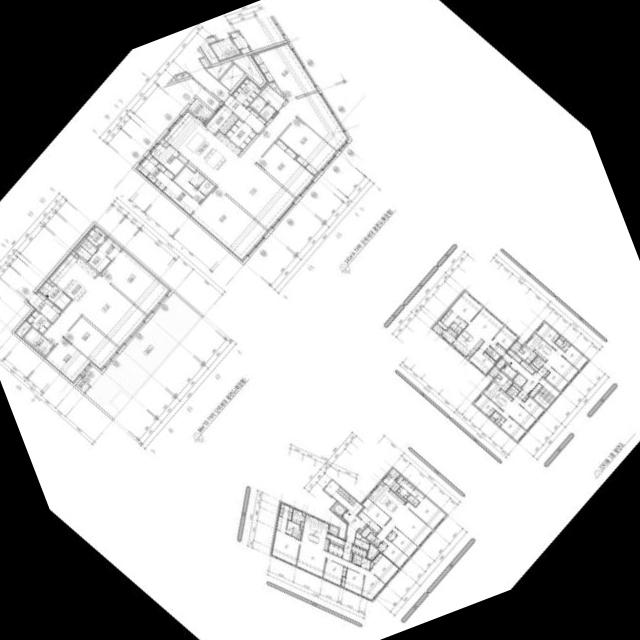background: (0, 0, 640, 640)
space_balconi: (388, 467, 400, 479), (328, 524, 338, 536)
space_bedroom: (190, 186, 268, 261), (101, 248, 171, 315), (250, 41, 317, 99), (257, 138, 315, 198), (279, 117, 337, 176), (64, 316, 120, 370), (45, 337, 92, 383), (404, 496, 446, 529), (271, 529, 300, 565), (450, 291, 482, 323), (370, 551, 399, 584), (361, 497, 390, 527), (391, 526, 418, 557), (382, 537, 409, 567), (469, 347, 496, 373), (340, 567, 364, 595), (474, 393, 503, 416), (323, 558, 347, 585), (536, 322, 559, 349), (500, 416, 525, 440), (562, 345, 587, 369), (492, 325, 517, 349), (519, 396, 544, 418), (545, 367, 568, 390), (386, 530, 397, 541), (377, 541, 387, 551)
space_dressroom: (135, 153, 175, 191), (162, 180, 199, 215), (98, 236, 122, 259), (84, 224, 108, 247), (396, 475, 414, 493), (440, 308, 458, 326), (278, 501, 293, 520), (397, 486, 409, 498)
space_elevator: (501, 363, 517, 379), (331, 501, 347, 517)
space_elevator_hall: (323, 480, 366, 543), (502, 352, 547, 393)
space_front: (223, 94, 267, 133), (27, 290, 61, 322), (231, 75, 261, 107), (25, 308, 51, 333), (357, 510, 381, 533), (328, 542, 343, 557), (351, 544, 367, 558), (342, 540, 352, 561), (517, 389, 529, 401), (494, 343, 505, 356), (537, 366, 549, 377)
space_kitchen: (162, 109, 241, 184), (48, 253, 97, 301), (367, 483, 405, 518), (516, 333, 555, 364), (484, 371, 513, 410), (301, 513, 329, 550), (451, 326, 484, 356)
space_living_room: (216, 91, 349, 230), (43, 274, 147, 347), (296, 540, 385, 600), (376, 504, 433, 546), (467, 307, 503, 350), (500, 395, 536, 430), (543, 347, 578, 381)
space_multipurpose_space: (149, 142, 184, 175), (38, 281, 71, 310)
space_other: (174, 47, 229, 101), (204, 103, 238, 134), (225, 118, 256, 149), (232, 55, 264, 84), (219, 63, 245, 90), (206, 60, 232, 79), (382, 473, 400, 491), (177, 154, 196, 171), (14, 320, 31, 337), (441, 327, 458, 343), (327, 532, 344, 548), (268, 82, 284, 97), (519, 360, 535, 374), (291, 507, 304, 524), (507, 349, 522, 363), (513, 373, 527, 387), (529, 382, 542, 397), (355, 531, 369, 543), (361, 526, 376, 537), (354, 538, 369, 549), (368, 543, 378, 558), (395, 491, 407, 501), (495, 358, 506, 368), (176, 72, 190, 79), (200, 57, 209, 67), (437, 320, 447, 329), (529, 362, 538, 371), (159, 138, 168, 146), (512, 382, 521, 390), (70, 250, 78, 257), (46, 278, 54, 285), (341, 517, 347, 524), (489, 415, 495, 421), (300, 521, 304, 529), (370, 561, 374, 568), (559, 335, 564, 340), (379, 480, 384, 485), (497, 375, 501, 379), (520, 349, 524, 353), (357, 528, 361, 532), (466, 355, 470, 358), (302, 512, 305, 516)
space_outdoor_room: (187, 98, 213, 121), (75, 378, 89, 392), (510, 341, 522, 353), (432, 322, 444, 334), (488, 366, 500, 378)
space_staircase: (533, 381, 560, 408), (336, 486, 356, 506)
space_toilet: (173, 166, 214, 202), (23, 327, 53, 356), (259, 84, 285, 110), (87, 249, 110, 272), (449, 316, 467, 334), (80, 238, 97, 255), (259, 103, 276, 120), (250, 95, 267, 112), (286, 520, 301, 539), (75, 245, 92, 261), (491, 410, 505, 425), (485, 346, 500, 360), (555, 337, 570, 351), (366, 532, 381, 546), (275, 515, 287, 532), (531, 355, 545, 368), (410, 488, 424, 501), (506, 385, 519, 398), (360, 557, 370, 569), (353, 553, 362, 561), (411, 497, 419, 506), (352, 557, 361, 565), (406, 494, 415, 502)
